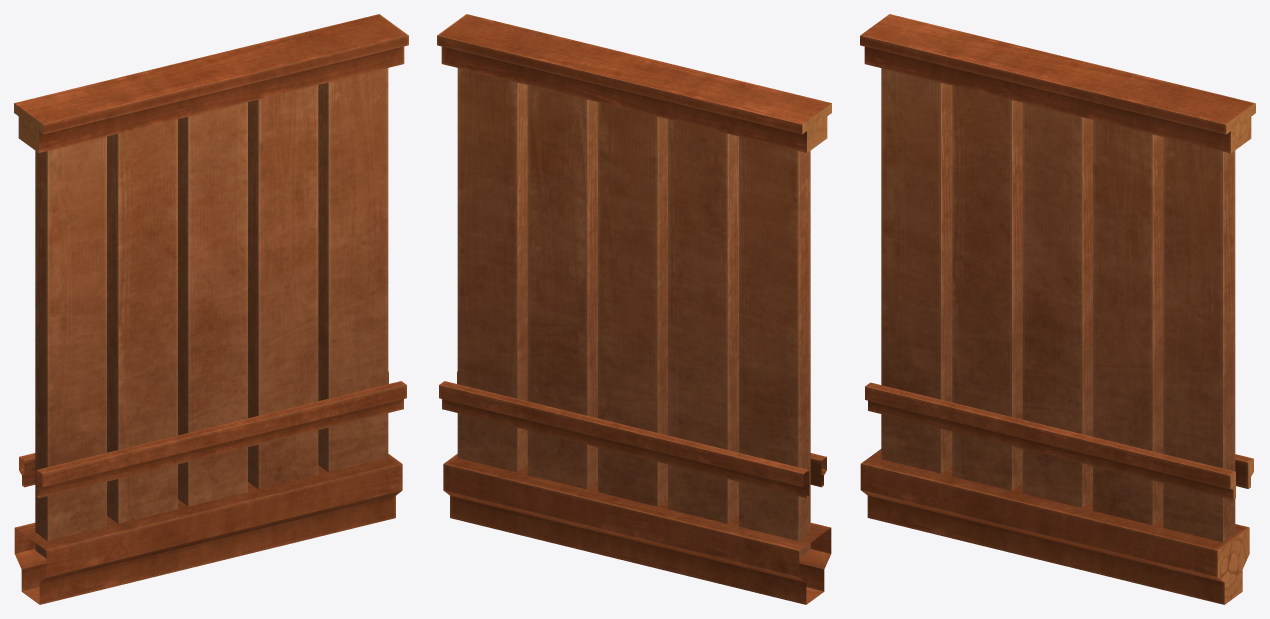
Rendered from Half panel 2.fbx.
The picture shows the model from 3 angles, left to right: view 1: azimuth 30°, elevation 25°; view 2: azimuth 150°, elevation 25°; view 3: azimuth 330°, elevation 25°; orthographic projection.
Visible parts, largest first — view 1: Fence1_Short_Left, Fence_Short_Frame1; view 2: Fence1_Short_Left, Fence_Short_Frame1; view 3: Fence1_Short_Left, Fence_Short_Frame1.
Boxes of the visible parts, x1,y1,x2,y2 form: Fence1_Short_Left: (14, 68, 406, 604); Fence_Short_Frame1: (14, 14, 408, 152); Fence1_Short_Left: (439, 68, 831, 604); Fence_Short_Frame1: (437, 14, 831, 152); Fence1_Short_Left: (860, 68, 1253, 604); Fence_Short_Frame1: (860, 14, 1255, 153).
Size of the model in its own units: 91.98 by 116 by 13.84.
